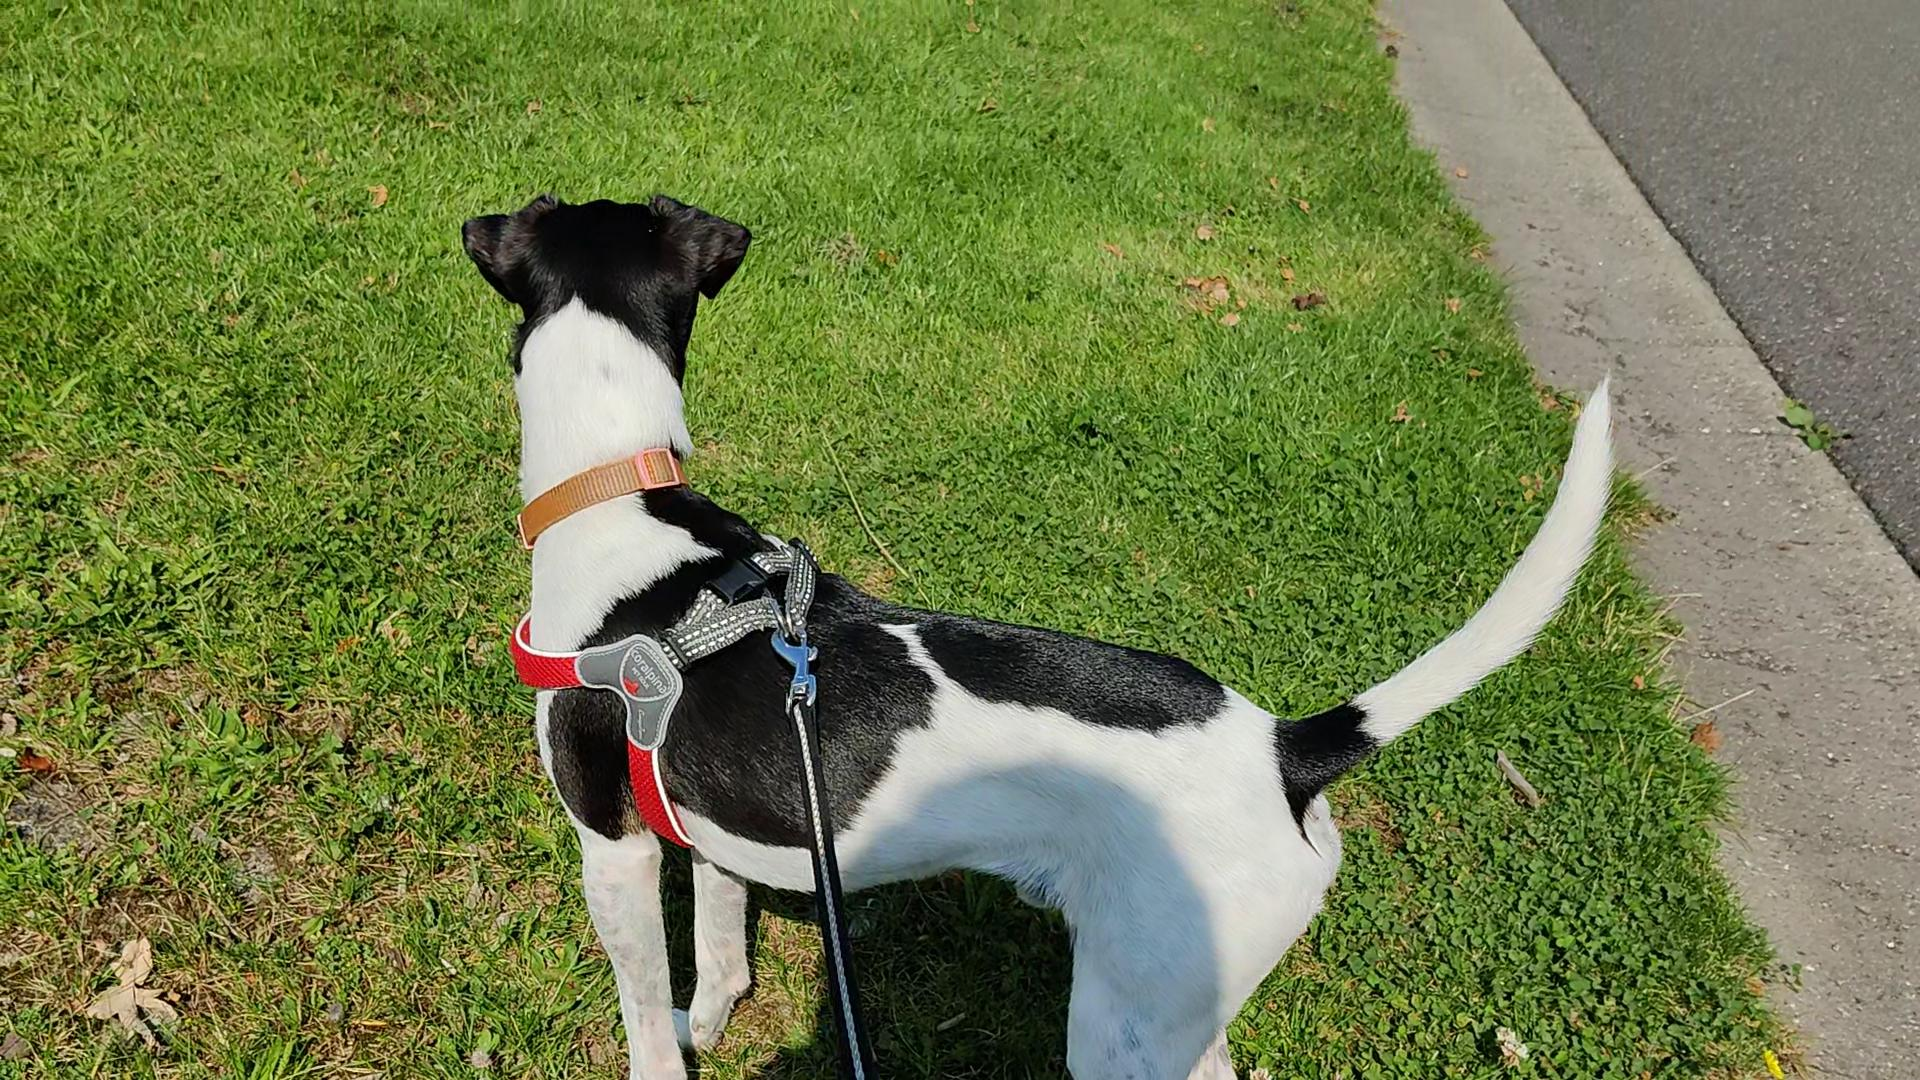Dog: (433, 166, 1655, 1079)
